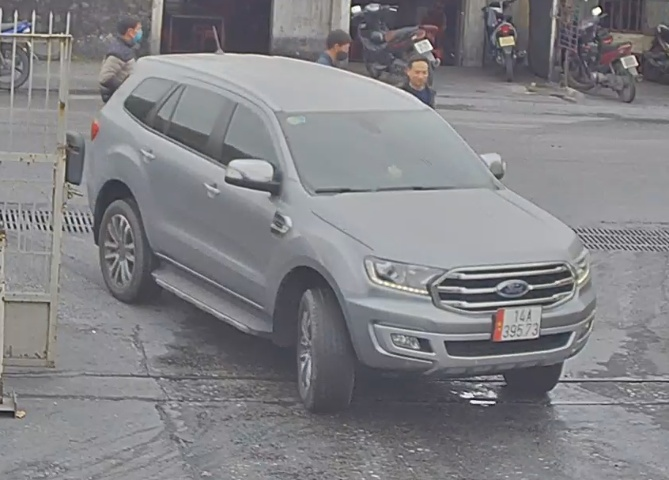vehicle plate: (483, 297, 552, 345)
